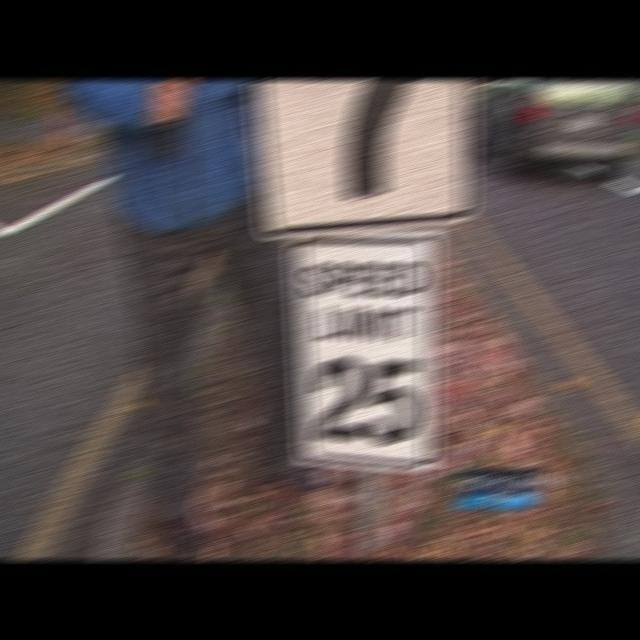speedLimit25: (289, 233, 440, 472)
